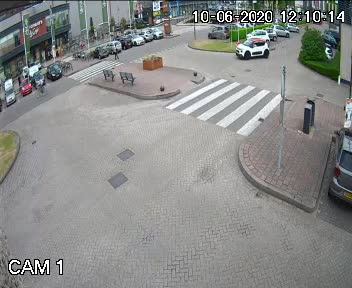car: (234, 36, 268, 60)
